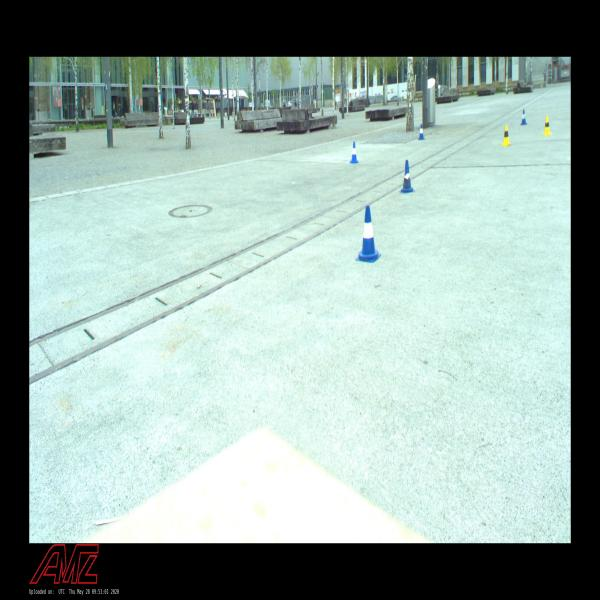blue_cone: (355, 205, 382, 264), (400, 160, 415, 194), (349, 142, 360, 164), (520, 109, 527, 125), (418, 124, 425, 140)
yellow_cone: (501, 125, 511, 147), (542, 115, 552, 135)
